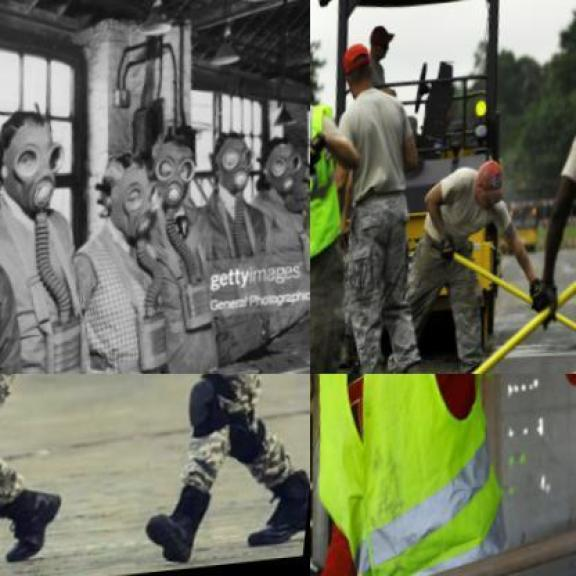safety_vest: (310, 374, 551, 574), (310, 101, 368, 273)
